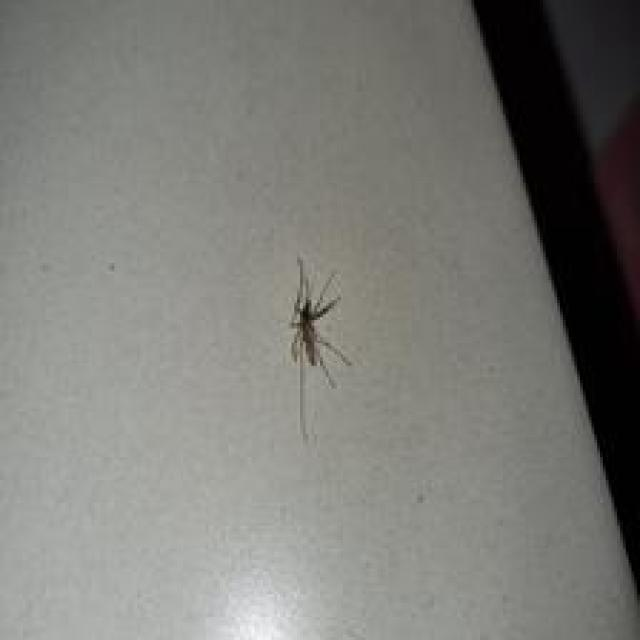Culex: (284, 254, 353, 443)
